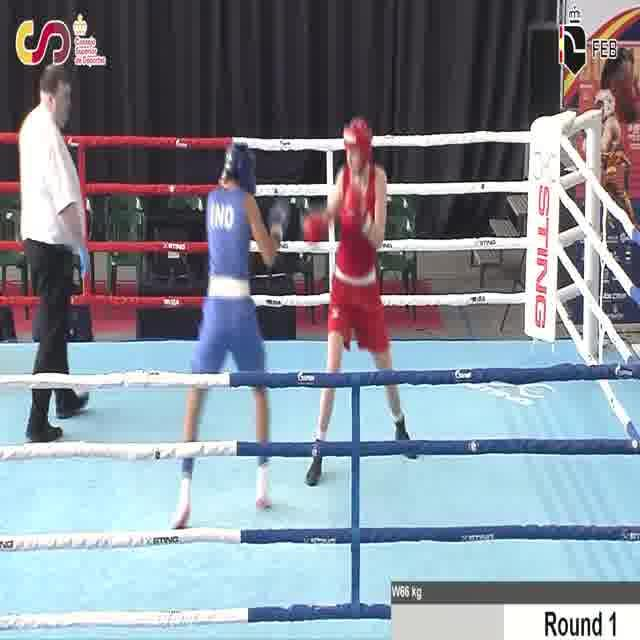blue-player: (168, 145, 291, 531)
red-player: (298, 114, 421, 489)
referee: (15, 60, 97, 447)
